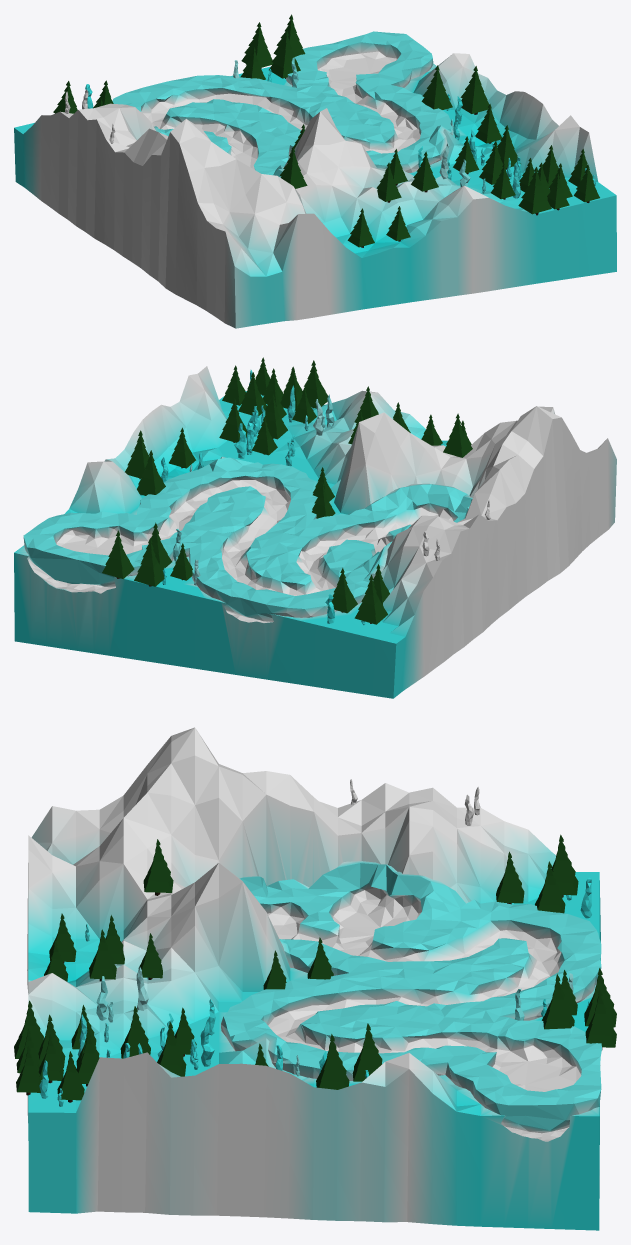
3 views of the same model, one above another, from view 1: azimuth 30°, elevation 25°; view 2: azimuth 150°, elevation 25°; view 3: azimuth 270°, elevation 25° (orthographic). The views are drawn at different scales.
Visible parts, largest first — view 1: transform8; view 2: transform8; view 3: transform8.
Part boxes in pixels (left/top/right/bottom): transform8: left=14, top=14, right=616, bottom=328; transform8: left=14, top=357, right=616, bottom=698; transform8: left=14, top=727, right=616, bottom=1230.
Bounding box in the file's own units: 9987 × 5153 × 10345.
